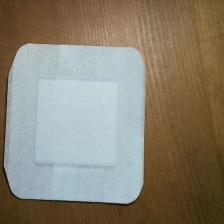Dressing: (4, 42, 149, 207)
